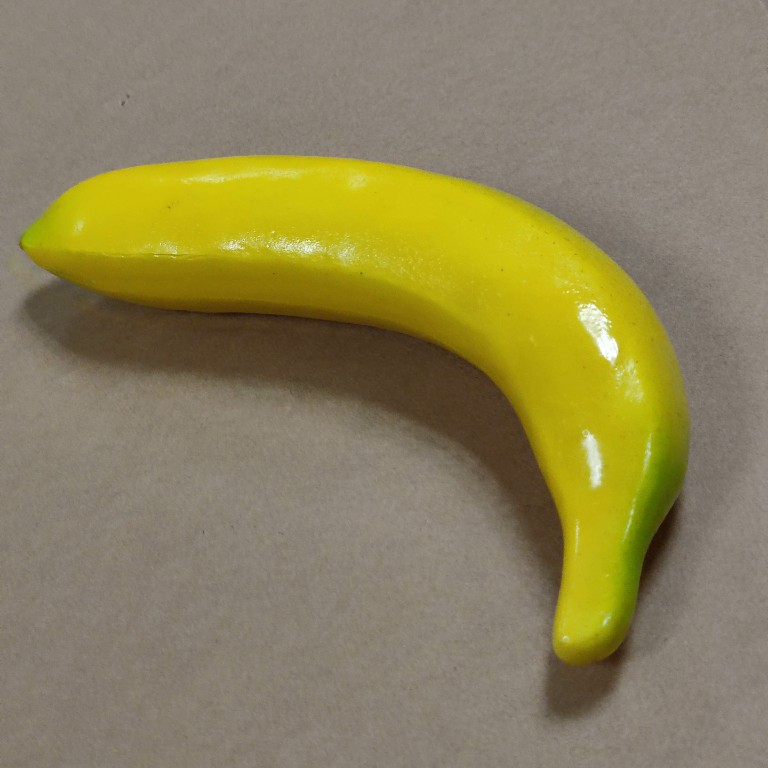fruit_banana: (11, 152, 693, 673)
